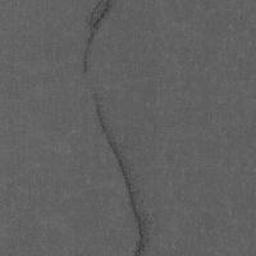Inclusion: (93, 99, 151, 256), (81, 0, 115, 78)
